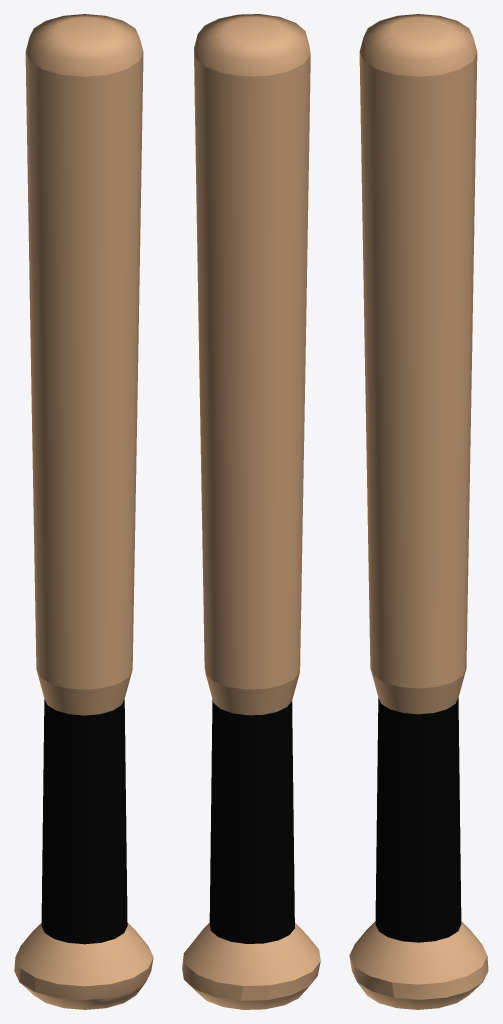
The model's file is Baseball_Bat.fbx.
3 views of the same model, side by side, from view 1: azimuth 90°, elevation 25°; view 2: azimuth 150°, elevation 25°; view 3: azimuth 270°, elevation 25° (orthographic).
Parts seen in each view (by area): view 1: Baseball_Bat; view 2: Baseball_Bat; view 3: Baseball_Bat.
Part boxes in pixels (x1,y1,x2,y2): Baseball_Bat: [14, 14, 153, 1009]; Baseball_Bat: [182, 14, 320, 1009]; Baseball_Bat: [349, 14, 488, 1009].
Size of the model in its own units: 28.78 by 219 by 28.8.
